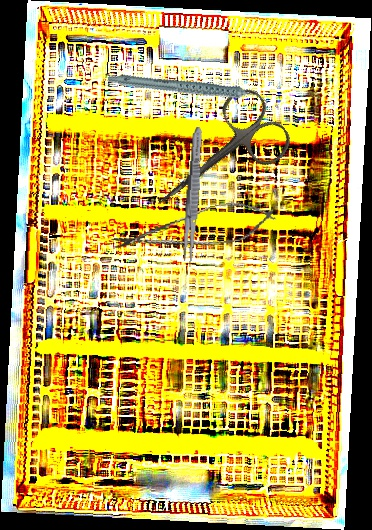Dressing Forceps: (181, 126, 205, 268)
Handpiece: (106, 43, 270, 137)
Iris Scissors: (132, 81, 299, 235)
Micro Scissor: (107, 194, 281, 265)
